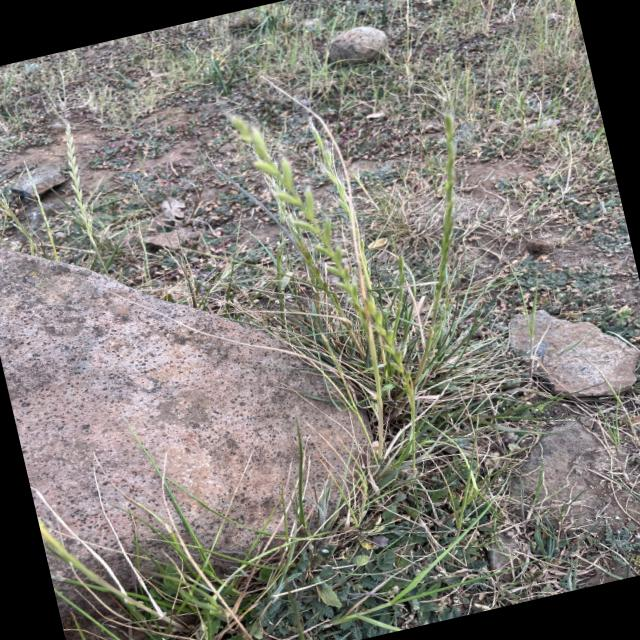Lolium: (228, 84, 426, 418), (351, 112, 513, 392), (52, 120, 102, 244), (0, 139, 42, 267)
